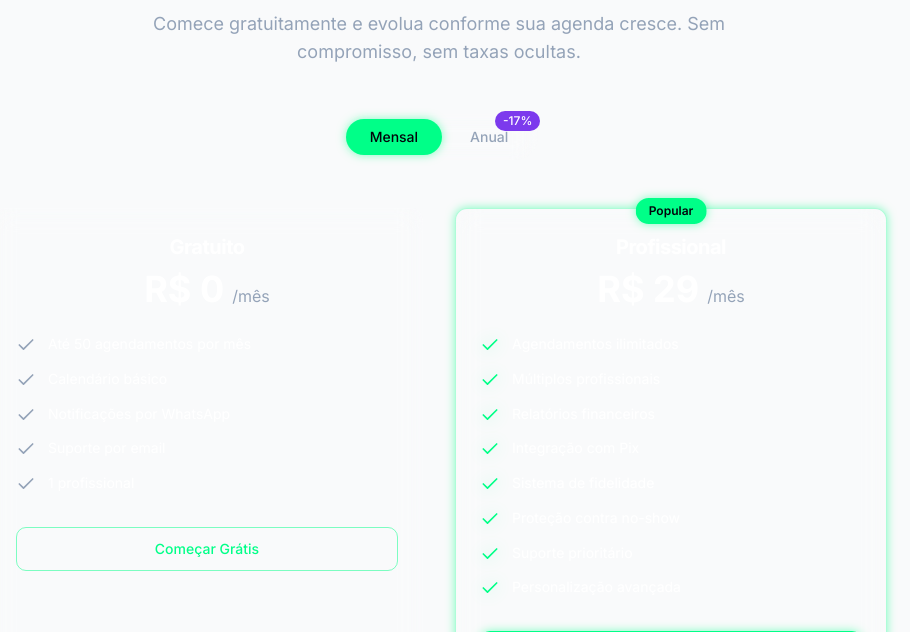
Test: PricingSection › toggles between monthly and yearly pricing
Note: Click yearly toggle
Click the button "Anual -17%" at coordinates (489, 137), box top-left (446, 119), bottom-right (532, 155)
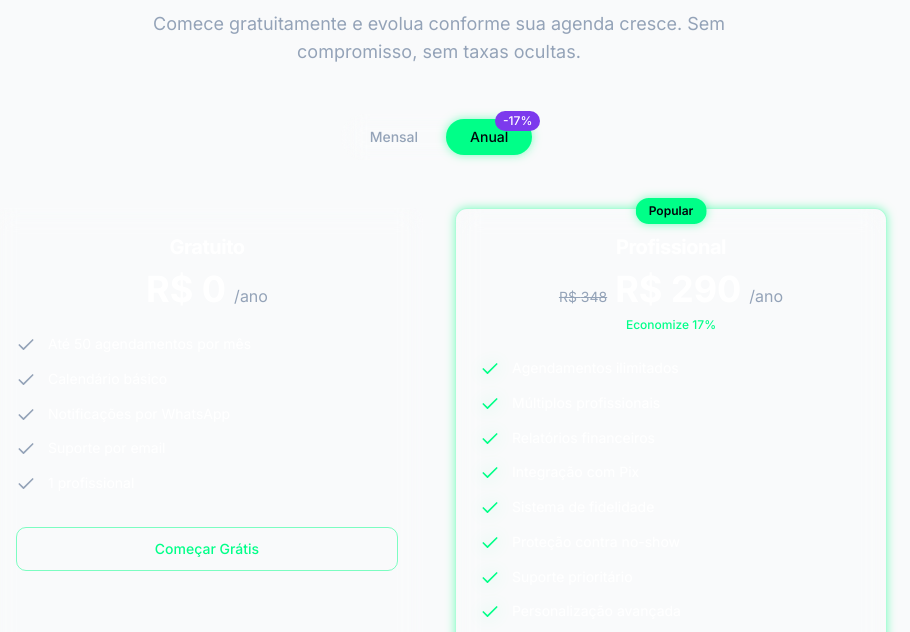
Now the text "R$ 348" is shown, box top-left (559, 287), bottom-right (607, 307)
